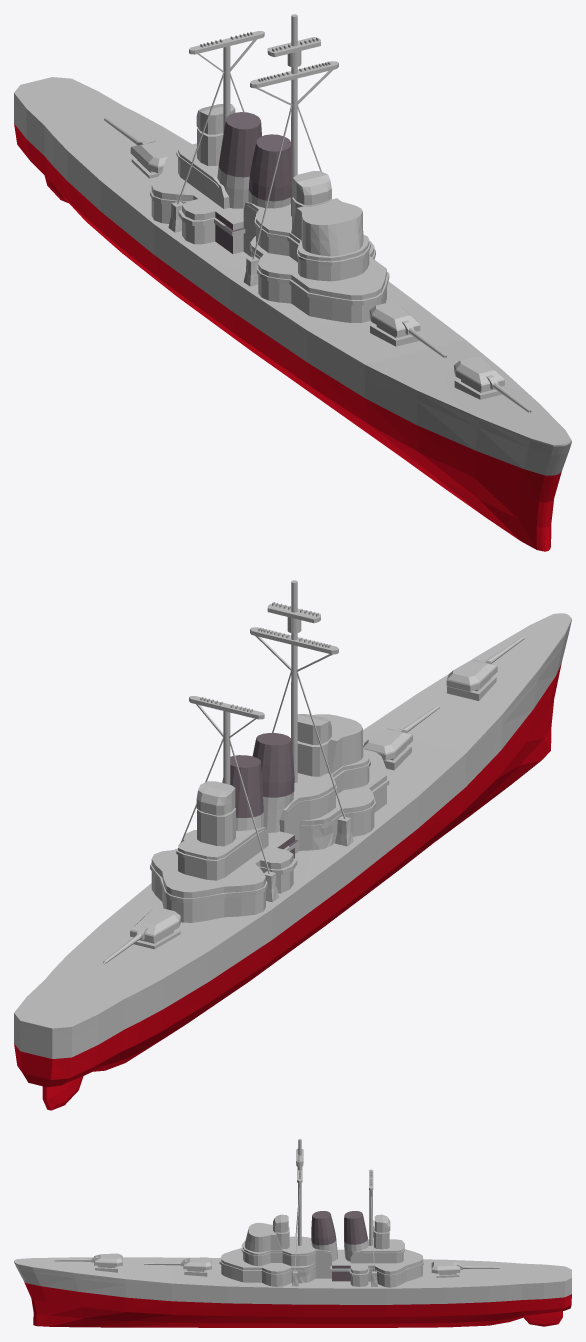
Rendered from big_classic1.fbx.
The picture shows the model from 3 angles, top to bottom: view 1: azimuth 30°, elevation 25°; view 2: azimuth 150°, elevation 25°; view 3: azimuth 270°, elevation 25°; orthographic projection. The views are drawn at different scales.
Parts seen in each view (by area): view 1: big_classic1; view 2: big_classic1; view 3: big_classic1.
Boxes of the visible parts, x1,y1,x2,y2 form: big_classic1: [14, 14, 571, 551]; big_classic1: [14, 580, 571, 1110]; big_classic1: [14, 1139, 571, 1327].
Bounding box in the file's own units: 842 × 2418 × 6557.
